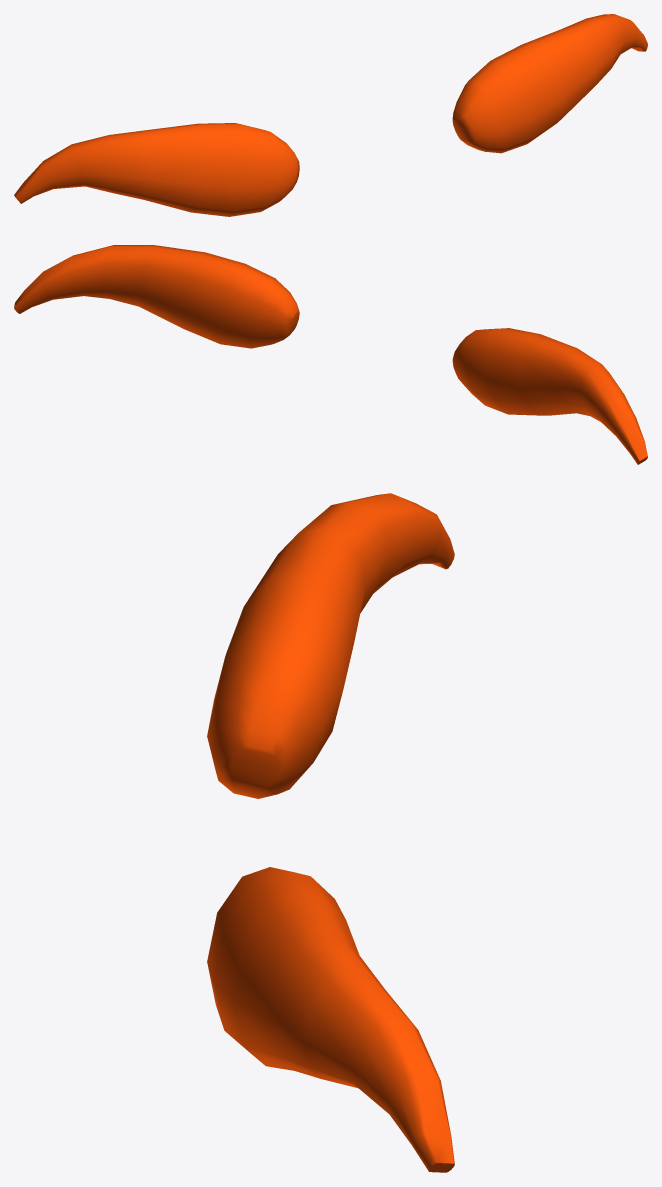
File: Eyebrows_24_06.fbx
3 renders of one model, top to bottom at view 1: azimuth 30°, elevation 25°; view 2: azimuth 150°, elevation 25°; view 3: azimuth 270°, elevation 25°, orthographic. The views are drawn at different scales.
Parts seen in each view (by area): view 1: Eyebrows_24_06; view 2: Eyebrows_24_06; view 3: Eyebrows_24_06.
Part boxes in pixels (box(x1,y1,x2,y2)): Eyebrows_24_06: box(14, 14, 647, 216); Eyebrows_24_06: box(14, 245, 647, 464); Eyebrows_24_06: box(207, 493, 454, 1172).
Bounding box in the file's own units: 19.24 × 2.6 × 3.26.
